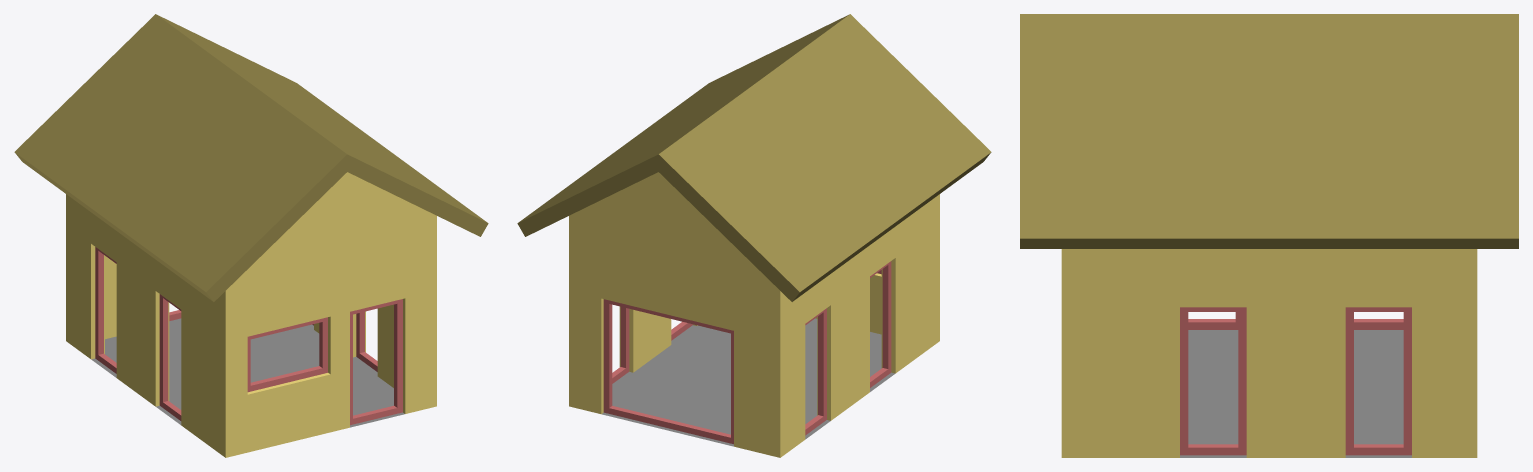
Rendered from result.glb.
The picture shows the model from 3 angles, left to right: view 1: azimuth 30°, elevation 25°; view 2: azimuth 150°, elevation 25°; view 3: azimuth 270°, elevation 25°; orthographic projection. The views are drawn at different scales.
Parts seen in each view (by area): view 1: 5f7d8a73-629c-43c8-a124-cf48aa5c37c9__undefined (×2), caa766c3-27b5-4a4c-85c4-01c5cc14f2c9__undefined, 4a084238-2099-42d4-a0db-f8253e02f203__Plane_8, d42519e3-e452-4701-ae64-e61dbb6fc563__Box, 2d9a5e22-8963-44b0-8b7d-fe51c3ffba0d__Box_3, f22405a8-2ded-4561-be0d-badbd666ac54__Box_12, e5670444-bee5-4548-8d5c-42fb163c52f5__Box_15, 96111d91-1e81-4c31-b0d7-ff897a742e35__Box_18; view 2: 5f7d8a73-629c-43c8-a124-cf48aa5c37c9__undefined (×2), caa766c3-27b5-4a4c-85c4-01c5cc14f2c9__undefined, 4a084238-2099-42d4-a0db-f8253e02f203__Plane_8, 7a718641-97ed-4a7c-9a77-e50b7adae19f__Box_9, f22405a8-2ded-4561-be0d-badbd666ac54__Box_12, e5670444-bee5-4548-8d5c-42fb163c52f5__Box_15, c2dd63ed-16ed-4044-9e04-2582b502d730__Box_21; view 3: 5f7d8a73-629c-43c8-a124-cf48aa5c37c9__undefined, caa766c3-27b5-4a4c-85c4-01c5cc14f2c9__undefined, 4a084238-2099-42d4-a0db-f8253e02f203__Plane_8, 96111d91-1e81-4c31-b0d7-ff897a742e35__Box_18, c2dd63ed-16ed-4044-9e04-2582b502d730__Box_21, f22405a8-2ded-4561-be0d-badbd666ac54__Box_12, e5670444-bee5-4548-8d5c-42fb163c52f5__Box_15.
Boxes of the visible parts, box(x1,y1,x2,y2) form: 5f7d8a73-629c-43c8-a124-cf48aa5c37c9__undefined (×2): box(14, 14, 488, 301); caa766c3-27b5-4a4c-85c4-01c5cc14f2c9__undefined: box(66, 172, 436, 457); 4a084238-2099-42d4-a0db-f8253e02f203__Plane_8: box(91, 318, 404, 427); d42519e3-e452-4701-ae64-e61dbb6fc563__Box: box(350, 299, 402, 425); 2d9a5e22-8963-44b0-8b7d-fe51c3ffba0d__Box_3: box(247, 317, 327, 392); f22405a8-2ded-4561-be0d-badbd666ac54__Box_12: box(159, 294, 181, 420); e5670444-bee5-4548-8d5c-42fb163c52f5__Box_15: box(95, 247, 116, 373); 96111d91-1e81-4c31-b0d7-ff897a742e35__Box_18: box(356, 311, 377, 371); 5f7d8a73-629c-43c8-a124-cf48aa5c37c9__undefined (×2): box(517, 14, 991, 301); caa766c3-27b5-4a4c-85c4-01c5cc14f2c9__undefined: box(569, 172, 939, 457); 4a084238-2099-42d4-a0db-f8253e02f203__Plane_8: box(602, 318, 894, 446); 7a718641-97ed-4a7c-9a77-e50b7adae19f__Box_9: box(603, 299, 733, 444); f22405a8-2ded-4561-be0d-badbd666ac54__Box_12: box(870, 261, 891, 387); e5670444-bee5-4548-8d5c-42fb163c52f5__Box_15: box(805, 308, 826, 435); c2dd63ed-16ed-4044-9e04-2582b502d730__Box_21: box(612, 307, 629, 383); 5f7d8a73-629c-43c8-a124-cf48aa5c37c9__undefined: box(1020, 14, 1518, 248); caa766c3-27b5-4a4c-85c4-01c5cc14f2c9__undefined: box(1061, 249, 1477, 457); 4a084238-2099-42d4-a0db-f8253e02f203__Plane_8: box(1180, 330, 1411, 457); 96111d91-1e81-4c31-b0d7-ff897a742e35__Box_18: box(1180, 307, 1246, 455); c2dd63ed-16ed-4044-9e04-2582b502d730__Box_21: box(1345, 307, 1411, 455); f22405a8-2ded-4561-be0d-badbd666ac54__Box_12: box(1188, 312, 1238, 329); e5670444-bee5-4548-8d5c-42fb163c52f5__Box_15: box(1354, 319, 1403, 329).
Size of the model in its own units: 511 by 500 by 600.
